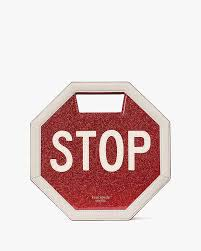stop sign: (28, 82, 170, 222)
